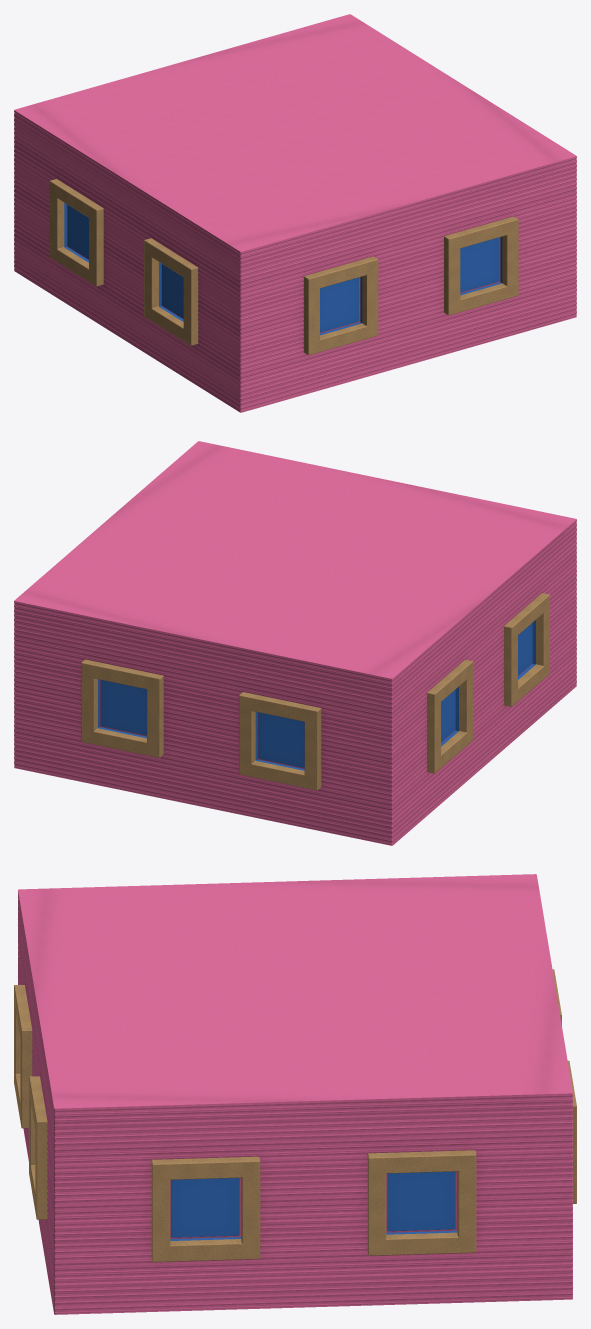
File: 2-pink-pad.fbx
The picture shows the model from 3 angles, top to bottom: view 1: azimuth 30°, elevation 25°; view 2: azimuth 150°, elevation 25°; view 3: azimuth 270°, elevation 25°; orthographic projection. The views are drawn at different scales.
Parts seen in each view (by area): view 1: pink-pad; view 2: pink-pad; view 3: pink-pad.
Part boxes in pixels (box(x1,y1,x2,y2)): pink-pad: box(14, 14, 576, 412); pink-pad: box(14, 441, 576, 845); pink-pad: box(14, 874, 576, 1314).
Size of the model in its own units: 7794 by 3150 by 7794.
1 material, 1 textured.
